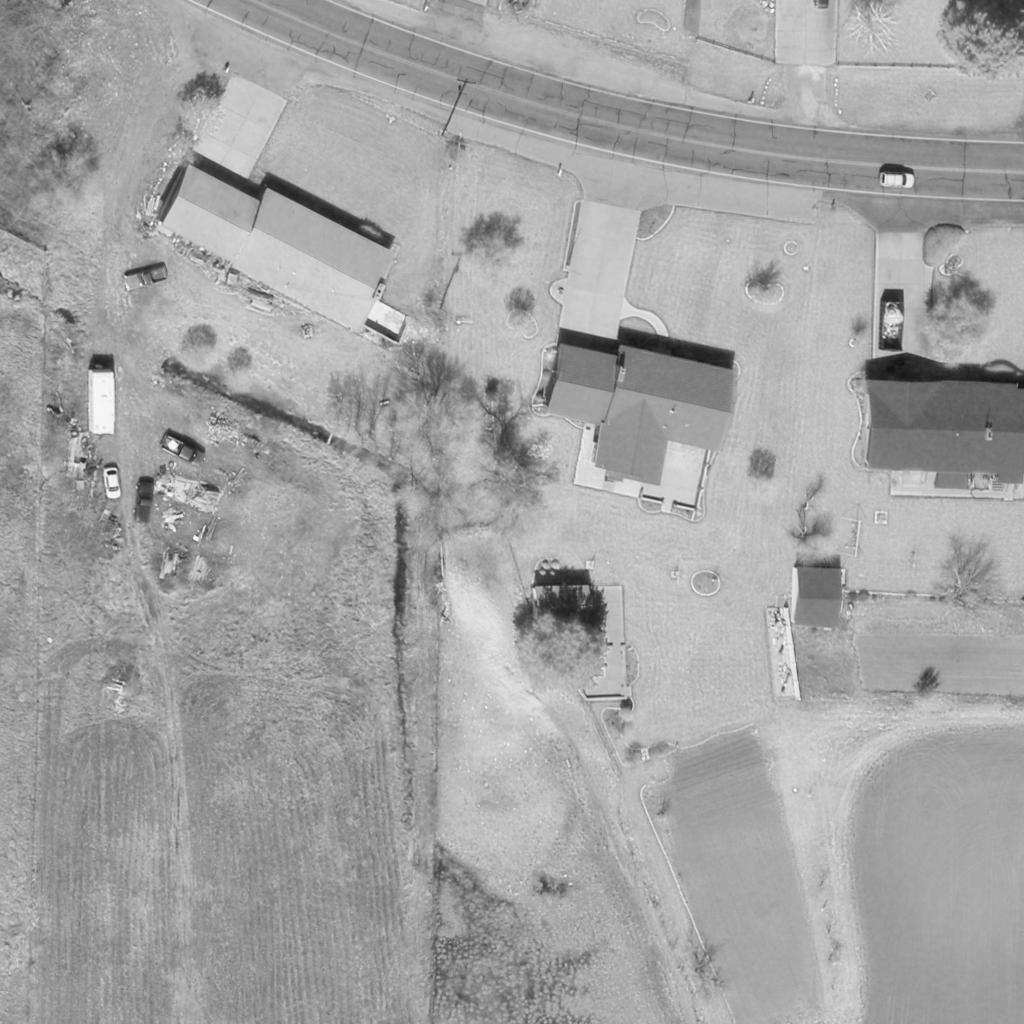vehicle: (87, 370, 115, 434), (161, 435, 207, 467), (131, 480, 157, 524), (123, 268, 169, 292), (100, 465, 122, 501), (881, 173, 915, 189)
